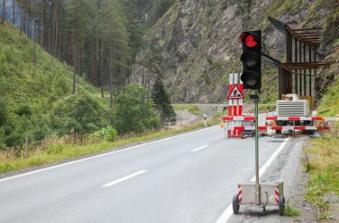red_light: (239, 30, 262, 89)
